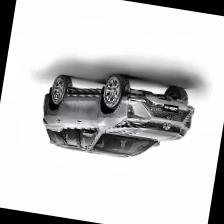NON-EV: (37, 64, 200, 173)
